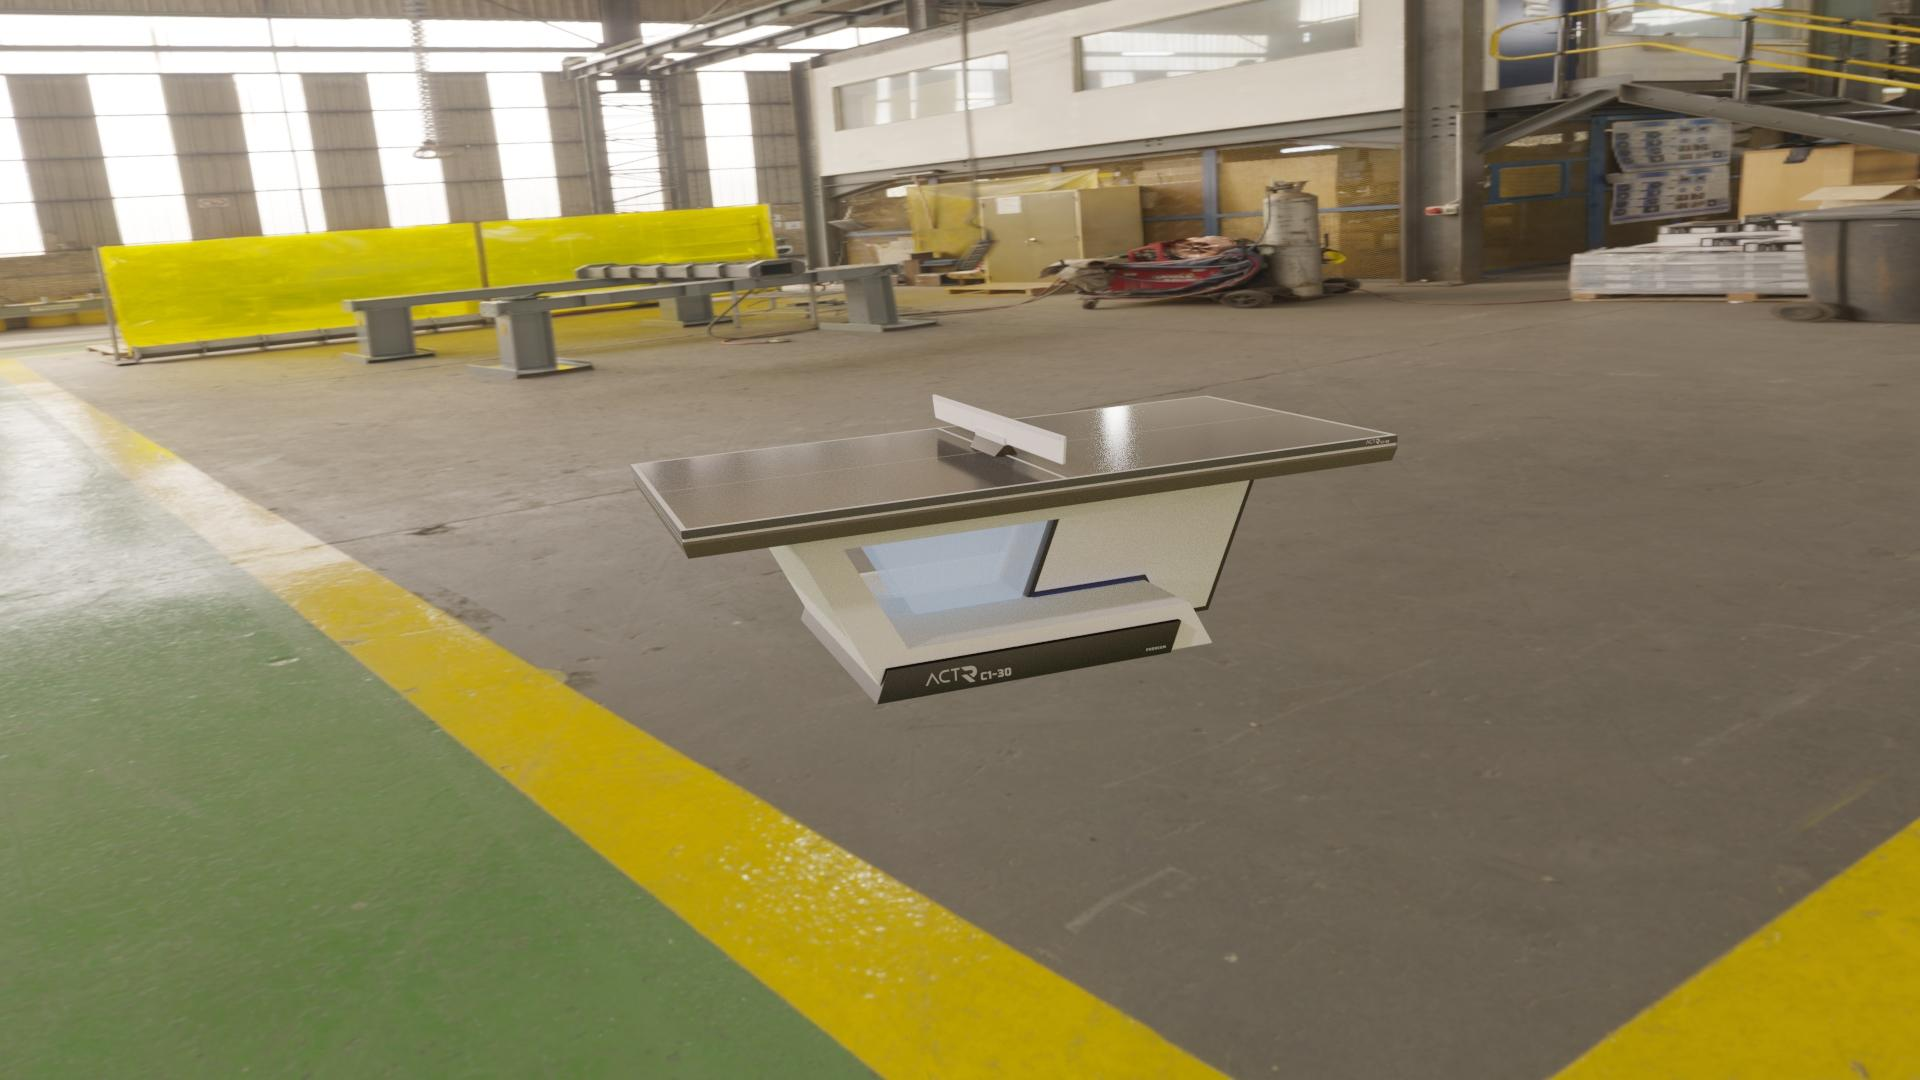table: (636, 397, 1390, 529)
